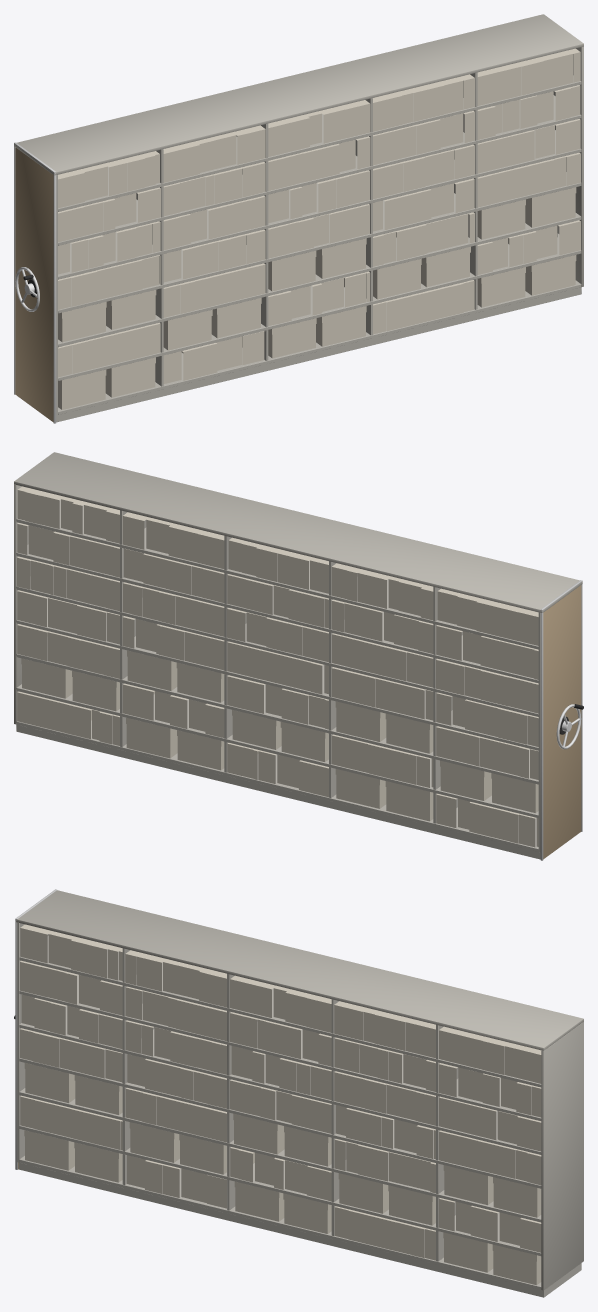
File: Kit_MobileShelving_5_Cartons.fbx
3 views of the same model, one above another, from view 1: azimuth 30°, elevation 25°; view 2: azimuth 150°, elevation 25°; view 3: azimuth 330°, elevation 25° (orthographic).
Visible parts, largest first — view 1: Kit_MobileShelving_5_Cartons_LOD0; view 2: Kit_MobileShelving_5_Cartons_LOD0; view 3: Kit_MobileShelving_5_Cartons_LOD0.
Boxes of the visible parts, bbox=[...] form: Kit_MobileShelving_5_Cartons_LOD0: bbox=[14, 14, 583, 423]; Kit_MobileShelving_5_Cartons_LOD0: bbox=[14, 452, 583, 860]; Kit_MobileShelving_5_Cartons_LOD0: bbox=[14, 889, 583, 1297].
Size of what is drawn, in the model's own units: 4.76 by 2.1 by 0.61.
